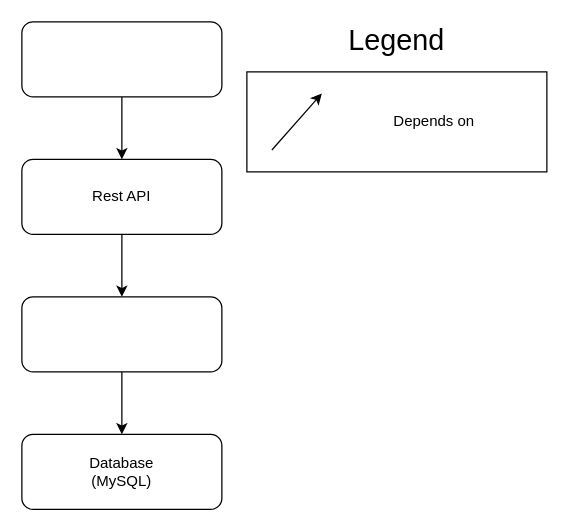
Some shapes in this 569 by 531 pixel diagram are drawn without their labels. The shapes that lost their labels are listed below. From the top down, each one's centre as x and y in pixels, then its label:
At (x=121, y=59): "Client".
At (x=121, y=334): "Core".
